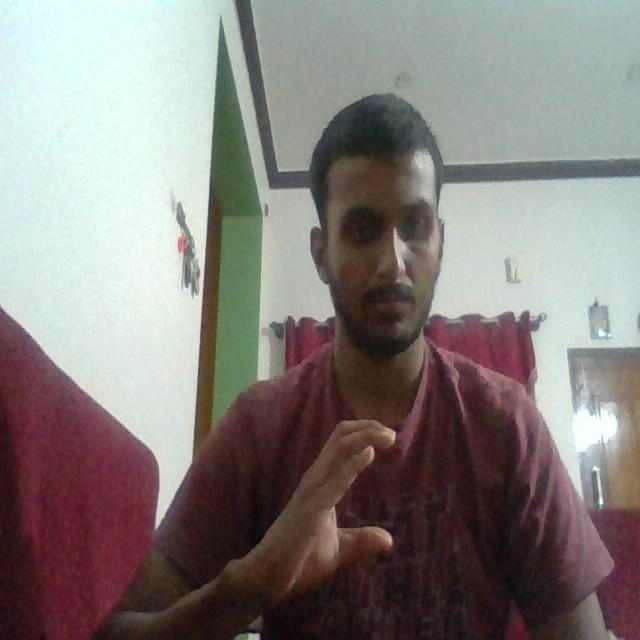no: (251, 419, 406, 584)
